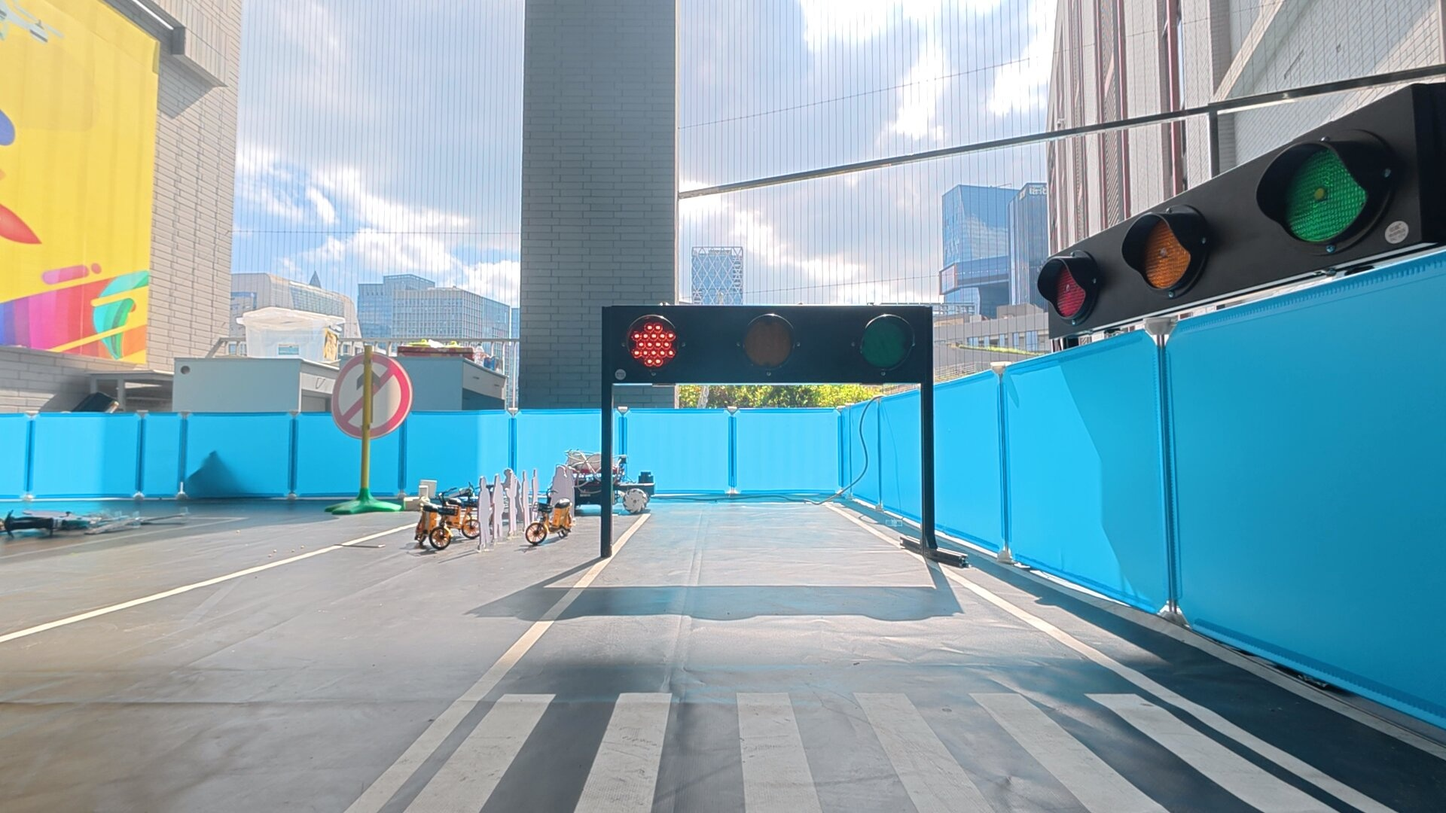stop: (627, 314, 681, 374)
